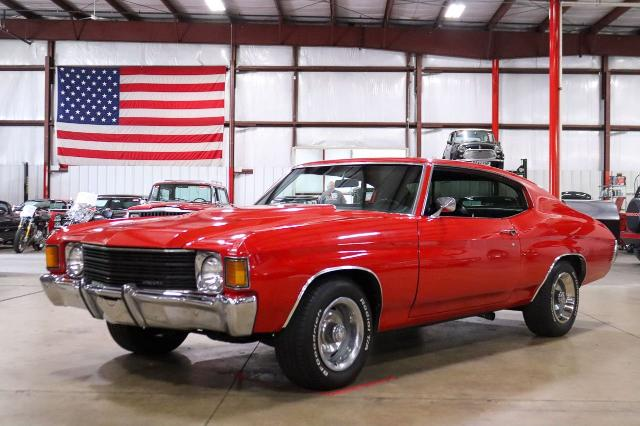chevelle-1972: (41, 159, 616, 390)
